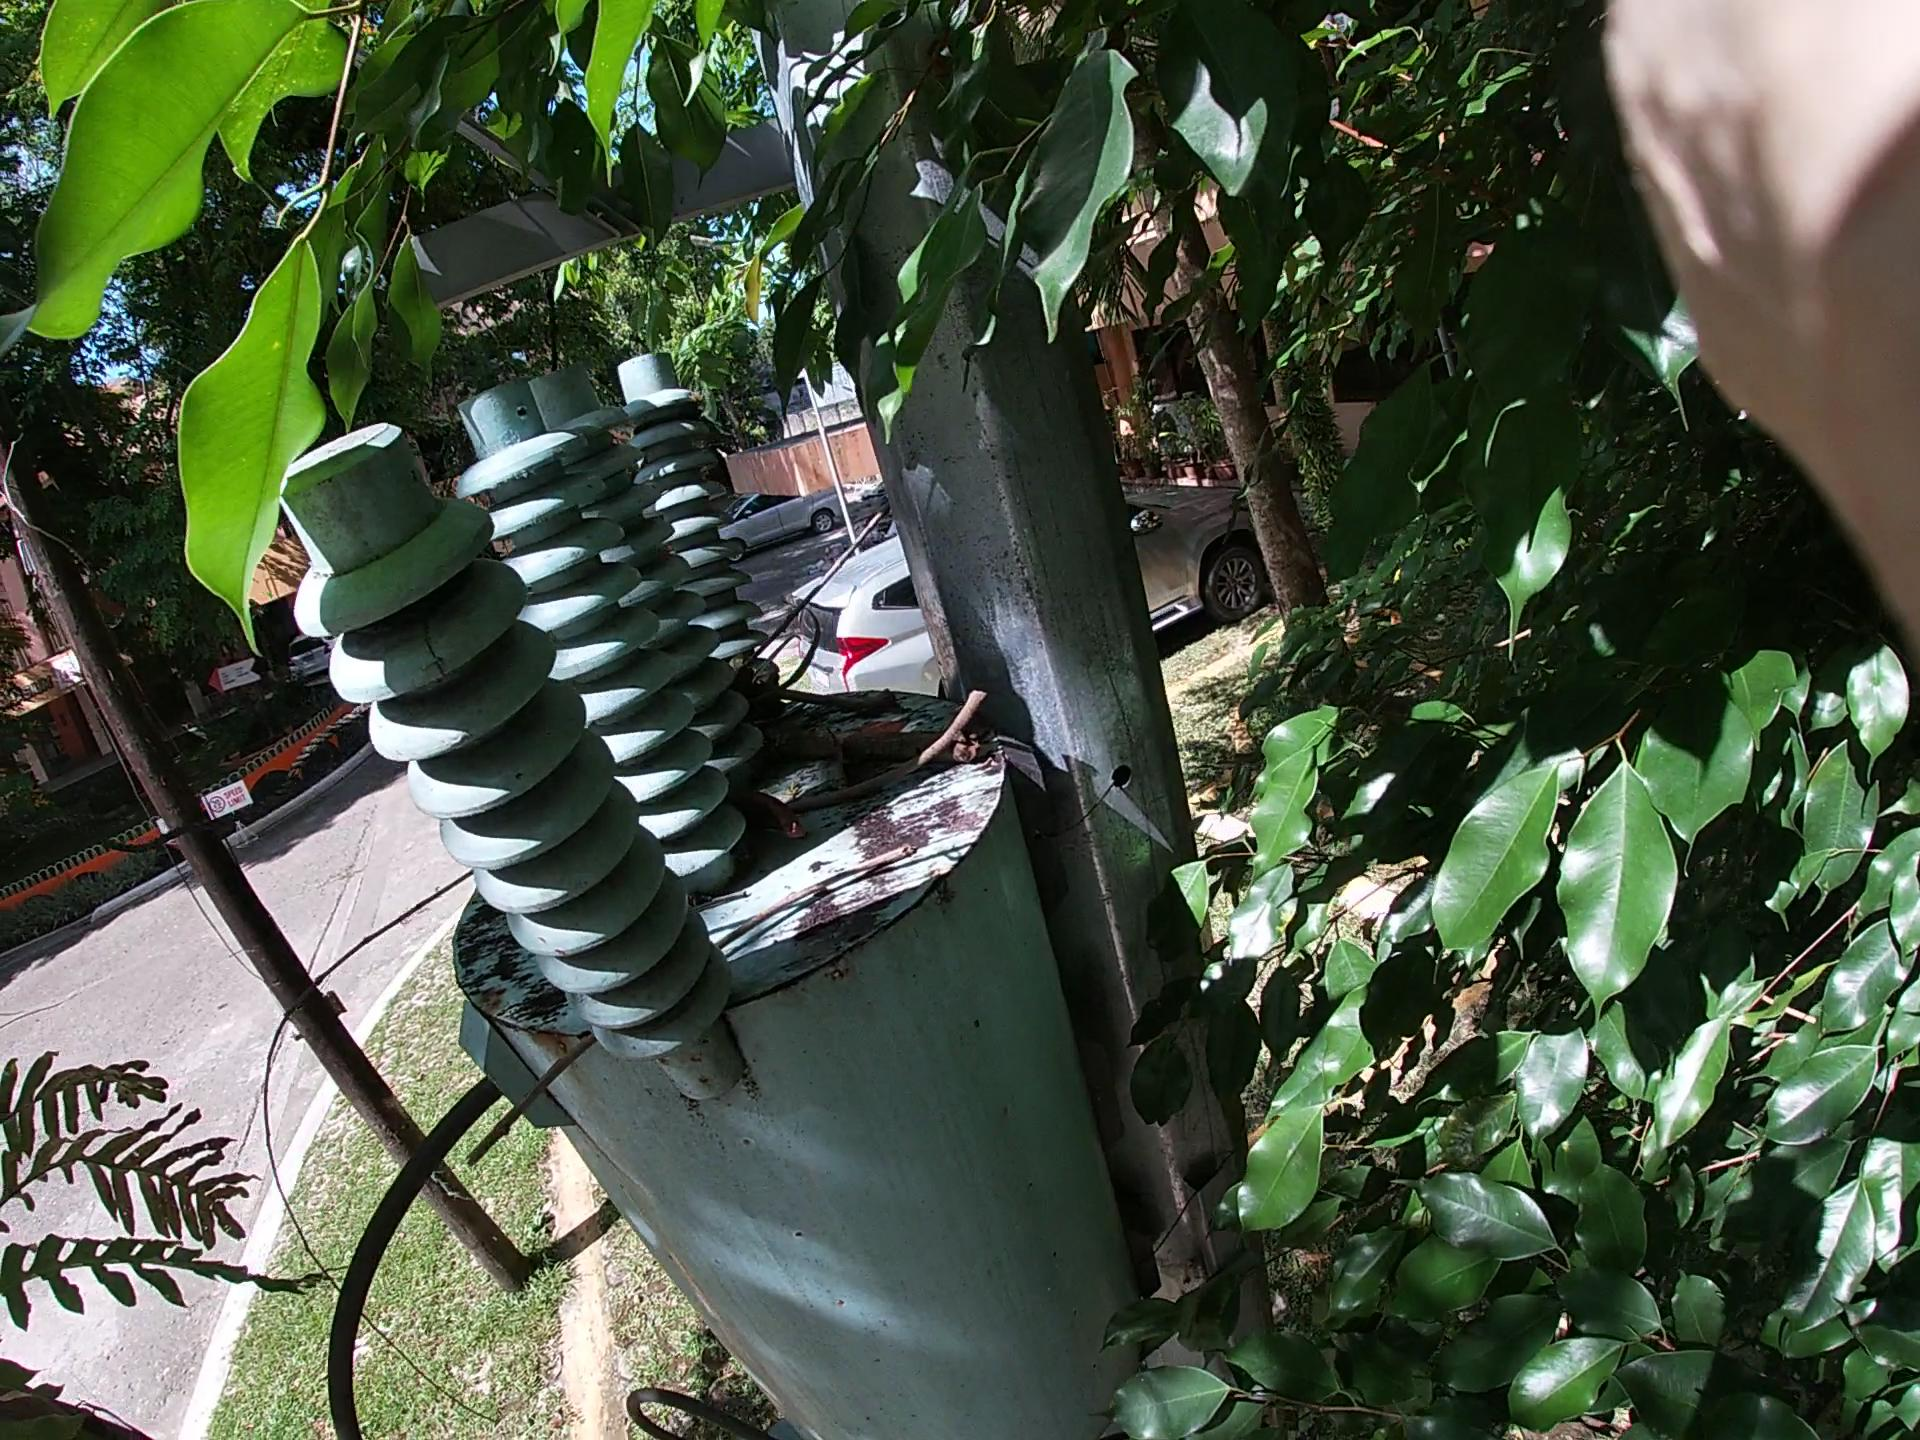branch with leaves: (703, 535, 853, 709)
leaf: (857, 700, 912, 759)
mahogany fruit: (652, 693, 838, 877)
tree branch: (150, 824, 522, 1305), (505, 811, 981, 1144), (792, 694, 1052, 846)
